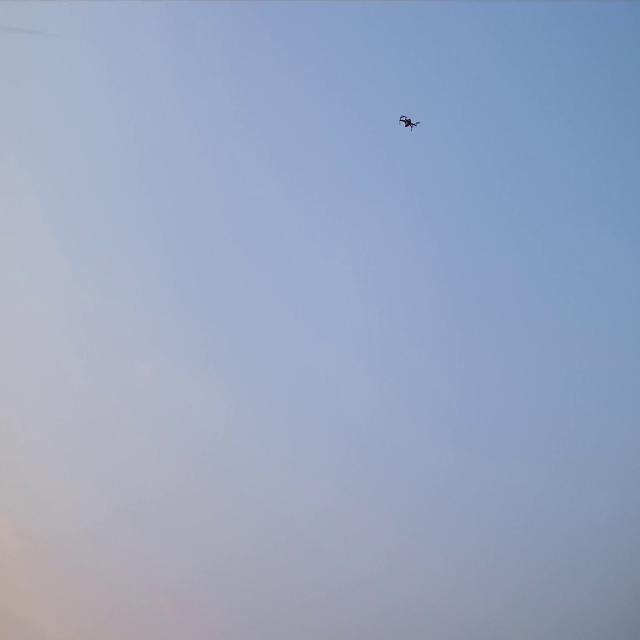UAV: (399, 116, 418, 130)
